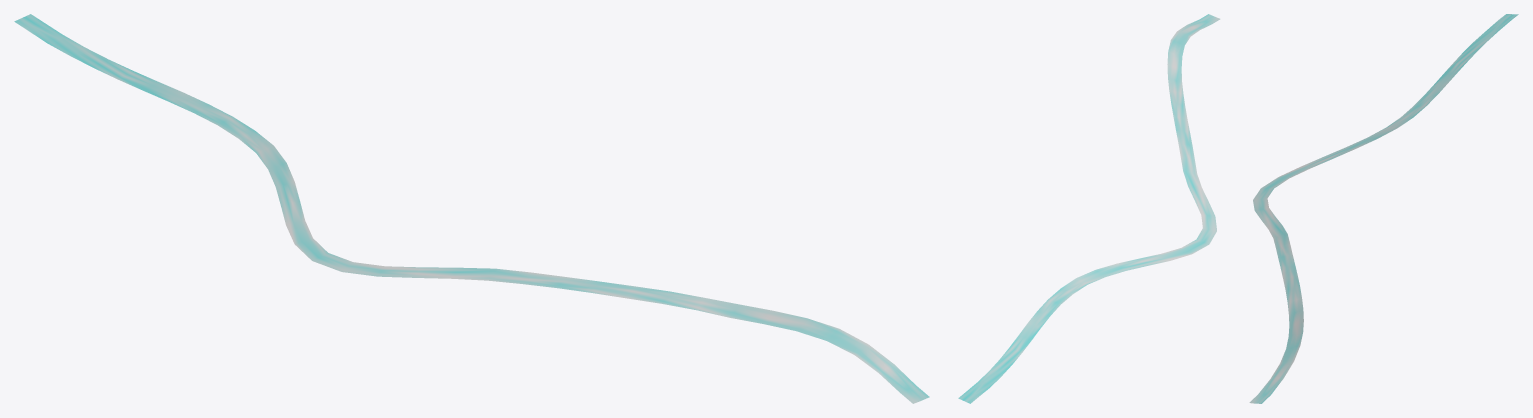
3 views of the same model, side by side, from view 1: azimuth 30°, elevation 25°; view 2: azimuth 150°, elevation 25°; view 3: azimuth 330°, elevation 25° (orthographic). The views are drawn at different scales.
Parts seen in each view (by area): view 1: SpaceCenter_Long3_GenerateRoad_Sand_TireTracks_Width_Mesh_x9; view 2: SpaceCenter_Long3_GenerateRoad_Sand_TireTracks_Width_Mesh_x9; view 3: SpaceCenter_Long3_GenerateRoad_Sand_TireTracks_Width_Mesh_x9.
Boxes of the visible parts, <box> form: SpaceCenter_Long3_GenerateRoad_Sand_TireTracks_Width_Mesh_x9: <box>14,14,929,403</box>; SpaceCenter_Long3_GenerateRoad_Sand_TireTracks_Width_Mesh_x9: <box>958,14,1220,403</box>; SpaceCenter_Long3_GenerateRoad_Sand_TireTracks_Width_Mesh_x9: <box>1249,14,1518,403</box>.
Bounding box in the file's own units: 2304 × 663 × 73.7.
